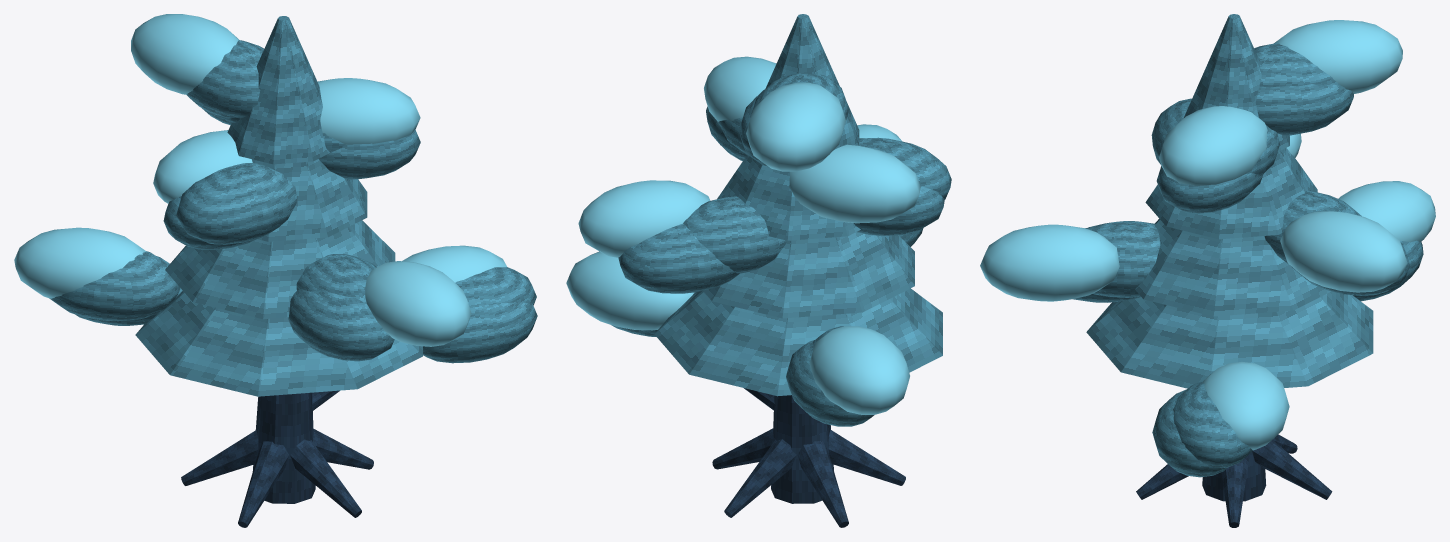
File: planta-2.glb
The picture shows the model from 3 angles, left to right: view 1: azimuth 30°, elevation 25°; view 2: azimuth 150°, elevation 25°; view 3: azimuth 270°, elevation 25°; orthographic projection.
Parts seen in each view (by area): view 1: Folhagem.003, Folhagem.006, Tronco.006; view 2: Folhagem.003, Folhagem.006, Tronco.006; view 3: Folhagem.003, Folhagem.006, Tronco.006.
Boxes of the visible parts, bbox=[...] form: Folhagem.003: bbox=[49, 16, 537, 396]; Folhagem.006: bbox=[14, 14, 506, 346]; Tronco.006: bbox=[181, 390, 373, 527]; Folhagem.003: bbox=[590, 14, 951, 426]; Folhagem.006: bbox=[566, 56, 920, 414]; Tronco.006: bbox=[712, 388, 905, 527]; Folhagem.003: bbox=[1073, 14, 1423, 477]; Folhagem.006: bbox=[980, 20, 1435, 450]; Tronco.006: bbox=[1136, 434, 1332, 527].
Size of the model in its own units: 1.01 by 1.09 by 0.9552.
Materials: 3 (2 with a texture image).
